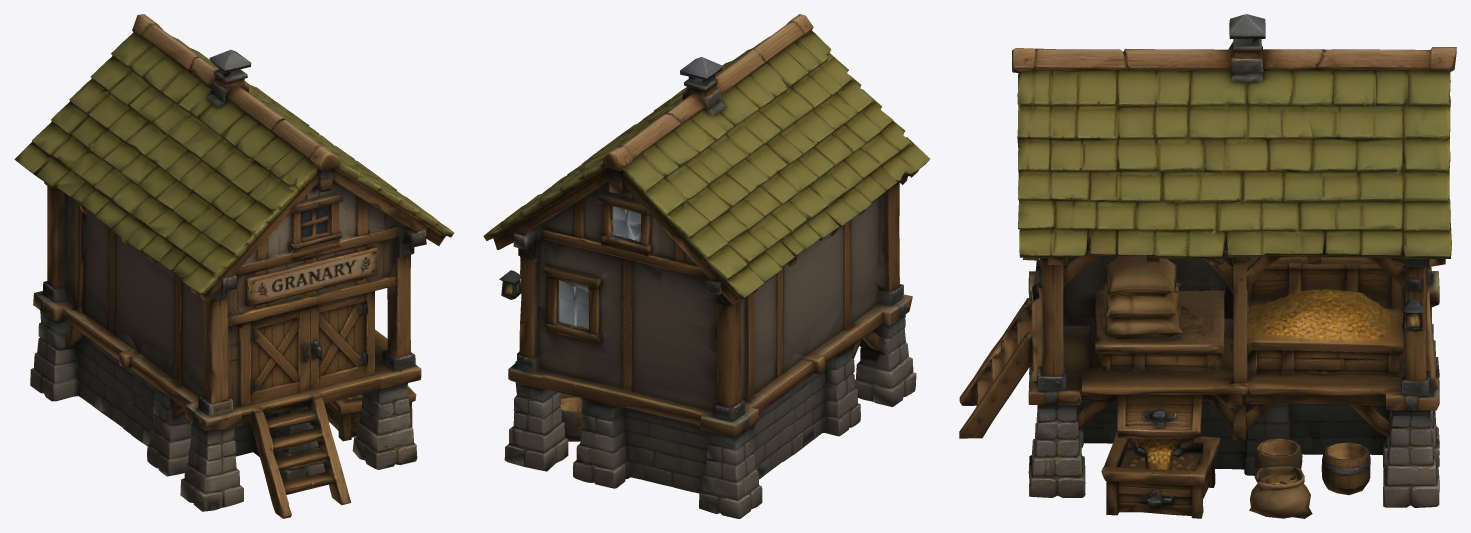
Rendered from granary.glb.
3 renders of one model, left to right at view 1: azimuth 30°, elevation 25°; view 2: azimuth 150°, elevation 25°; view 3: azimuth 270°, elevation 25°, orthographic. The views are drawn at different scales.
Parts seen in each view (by area): view 1: tripo_node_4b92e45f-5d50-4315-90ba-17210fa01986; view 2: tripo_node_4b92e45f-5d50-4315-90ba-17210fa01986; view 3: tripo_node_4b92e45f-5d50-4315-90ba-17210fa01986.
Boxes of the visible parts, bbox=[...] form: tripo_node_4b92e45f-5d50-4315-90ba-17210fa01986: bbox=[14, 14, 454, 518]; tripo_node_4b92e45f-5d50-4315-90ba-17210fa01986: bbox=[483, 14, 929, 518]; tripo_node_4b92e45f-5d50-4315-90ba-17210fa01986: bbox=[959, 14, 1456, 518].
Size of the model in its own units: 0.7265 by 0.9568 by 1.
Materials: 1 (1 with a texture image).
